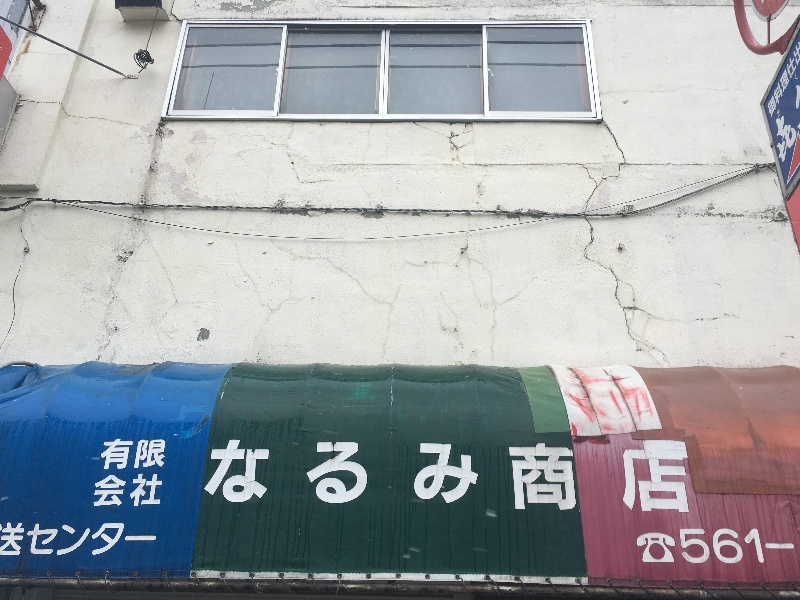text: (769, 36, 784, 122), (785, 36, 800, 122), (209, 437, 224, 518), (225, 437, 240, 518), (241, 437, 256, 518), (257, 437, 272, 518), (273, 437, 288, 518), (289, 437, 304, 518), (305, 437, 320, 518), (321, 437, 336, 518), (337, 437, 352, 518), (353, 437, 368, 518), (369, 437, 384, 518), (385, 437, 400, 518), (401, 437, 416, 518), (417, 437, 432, 518), (433, 437, 448, 518), (449, 437, 464, 518), (465, 437, 480, 518), (481, 437, 496, 518), (497, 437, 512, 518), (513, 437, 528, 518), (529, 437, 544, 518), (545, 437, 560, 518), (561, 437, 576, 518), (577, 437, 592, 518), (593, 437, 608, 518), (609, 437, 624, 518), (625, 437, 640, 518), (641, 437, 656, 518), (657, 437, 672, 518), (673, 437, 688, 518), (769, 103, 784, 169), (785, 103, 799, 169), (689, 527, 704, 567), (705, 527, 720, 567), (721, 527, 736, 567), (737, 527, 752, 567), (753, 527, 768, 567), (769, 527, 784, 567), (785, 527, 800, 567), (97, 473, 112, 510), (113, 473, 128, 510), (129, 473, 144, 510), (145, 473, 160, 510), (1, 521, 16, 558), (17, 521, 32, 558), (33, 521, 48, 558), (49, 521, 64, 558), (65, 521, 80, 558), (81, 521, 96, 558), (97, 521, 112, 558), (113, 521, 128, 558), (129, 521, 144, 558), (113, 438, 128, 473), (129, 438, 144, 473), (145, 438, 160, 473), (145, 521, 159, 558), (678, 527, 688, 567), (101, 438, 112, 473), (689, 437, 693, 518), (161, 438, 168, 473), (161, 473, 165, 510), (775, 107, 784, 120), (793, 70, 800, 84), (767, 36, 768, 122)
